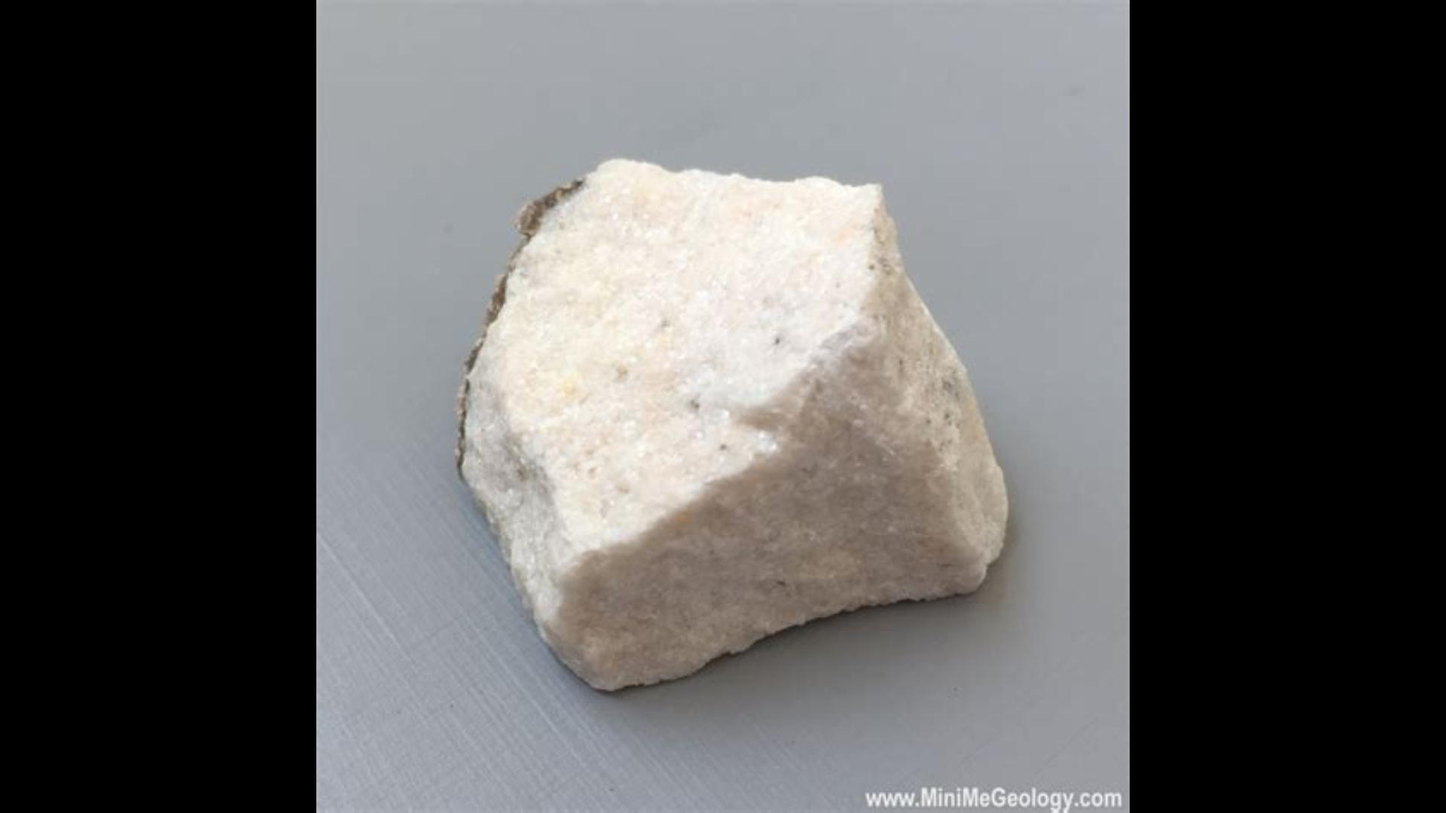rock: (462, 160, 1001, 688)
